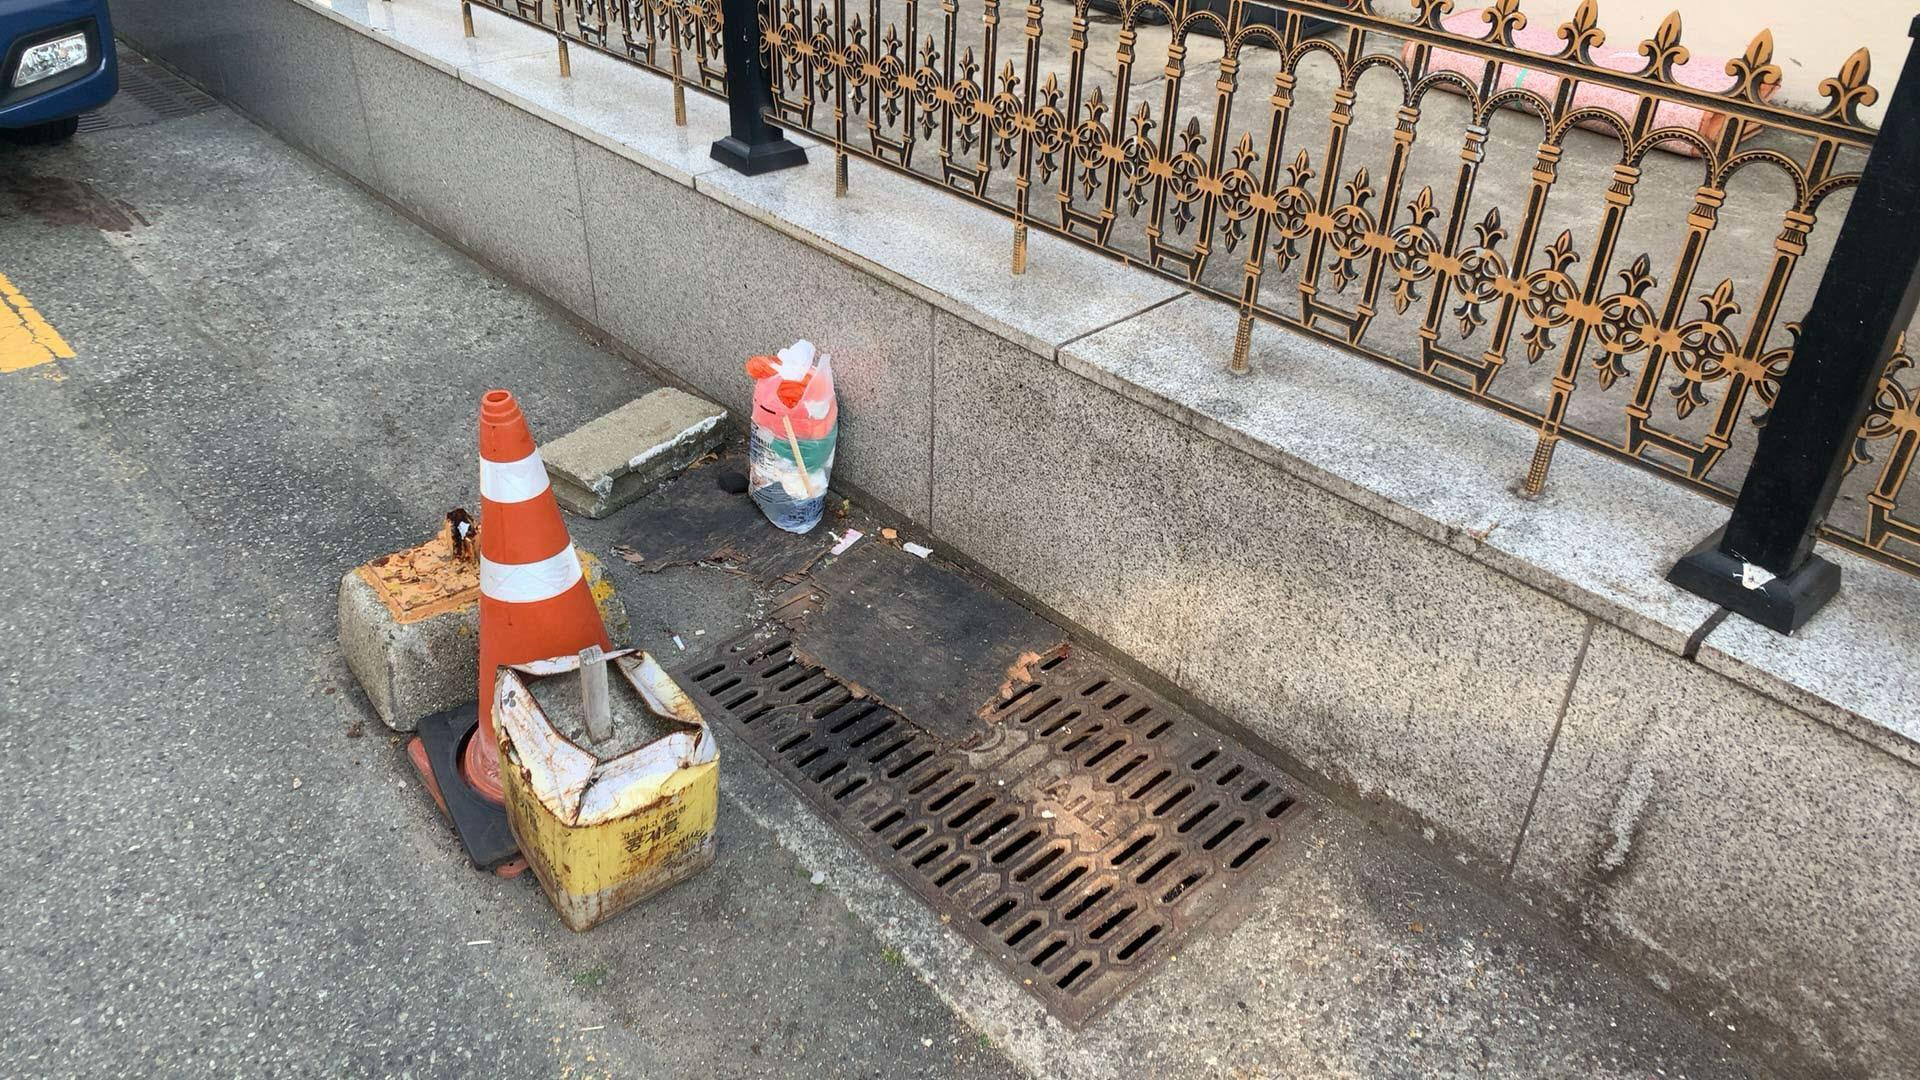white_bag: (728, 338, 855, 546)
